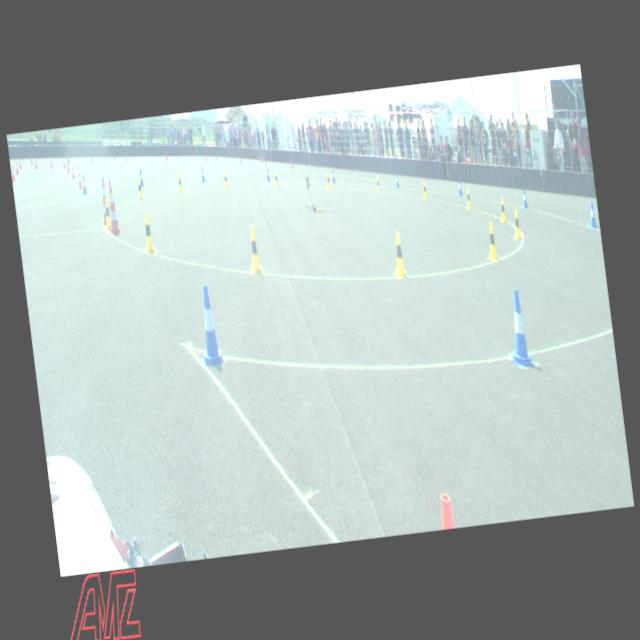blue_cone: (502, 288, 534, 367), (195, 284, 222, 364), (586, 202, 596, 228), (520, 188, 528, 208), (80, 174, 87, 194), (138, 168, 144, 186), (456, 178, 462, 195), (330, 168, 336, 182), (394, 172, 399, 188), (200, 167, 205, 182), (265, 167, 270, 181)
large_orange_cone: (104, 179, 120, 233), (98, 176, 110, 226)
orange_cone: (76, 170, 83, 188), (10, 165, 16, 181), (70, 164, 76, 179), (14, 160, 19, 173), (61, 156, 66, 168), (34, 156, 38, 168), (66, 160, 70, 172), (49, 156, 53, 168), (18, 158, 22, 168)
yellow_cone: (245, 225, 263, 274), (389, 230, 407, 277), (140, 212, 156, 253), (484, 221, 498, 260), (510, 208, 522, 240), (102, 196, 112, 228), (498, 196, 507, 222), (136, 178, 144, 200), (464, 188, 472, 208), (222, 170, 228, 188), (176, 174, 182, 192), (421, 180, 427, 198), (375, 175, 381, 192), (273, 171, 279, 187), (326, 172, 330, 188)
